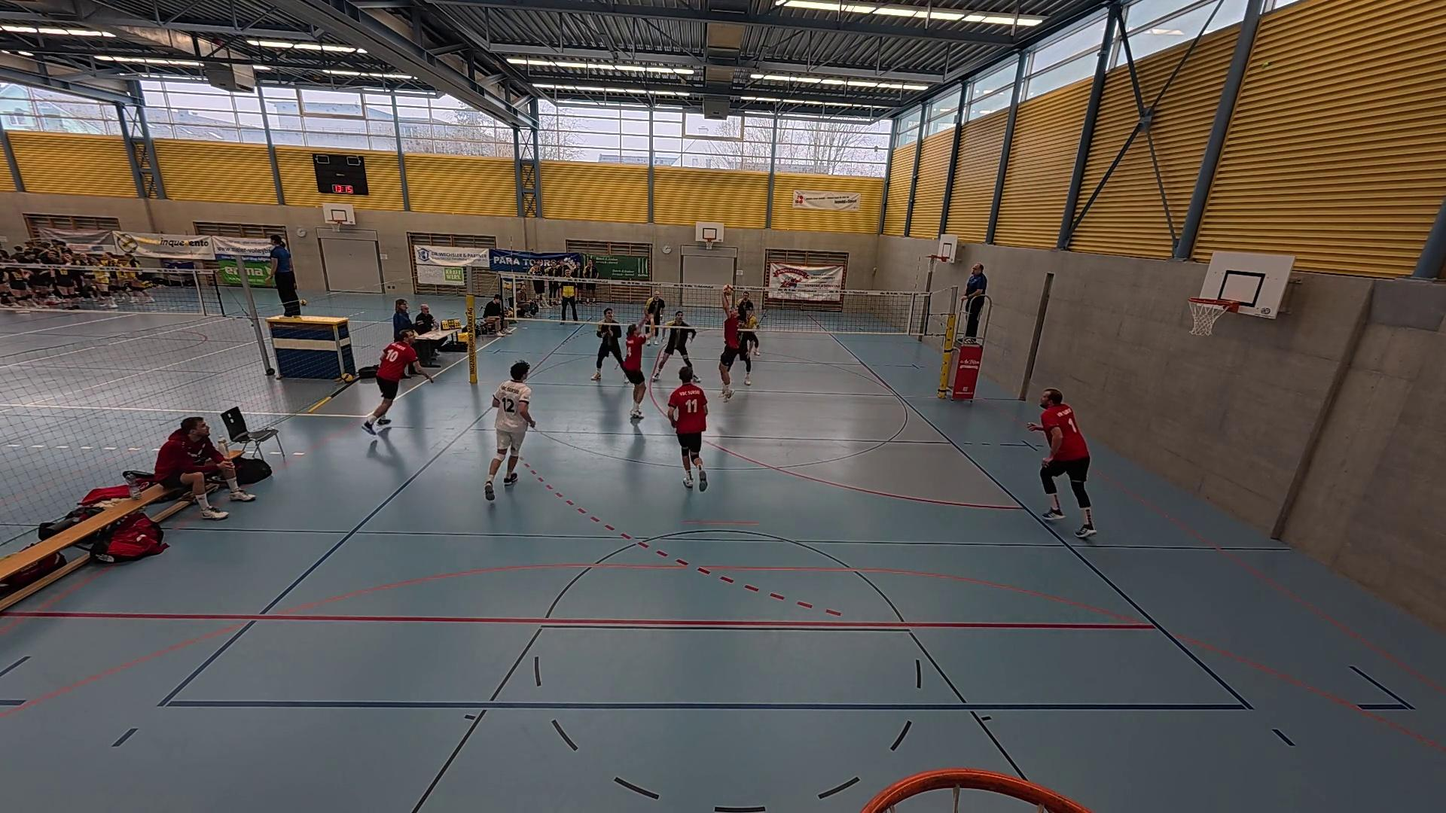alzata: (713, 286, 751, 400)
